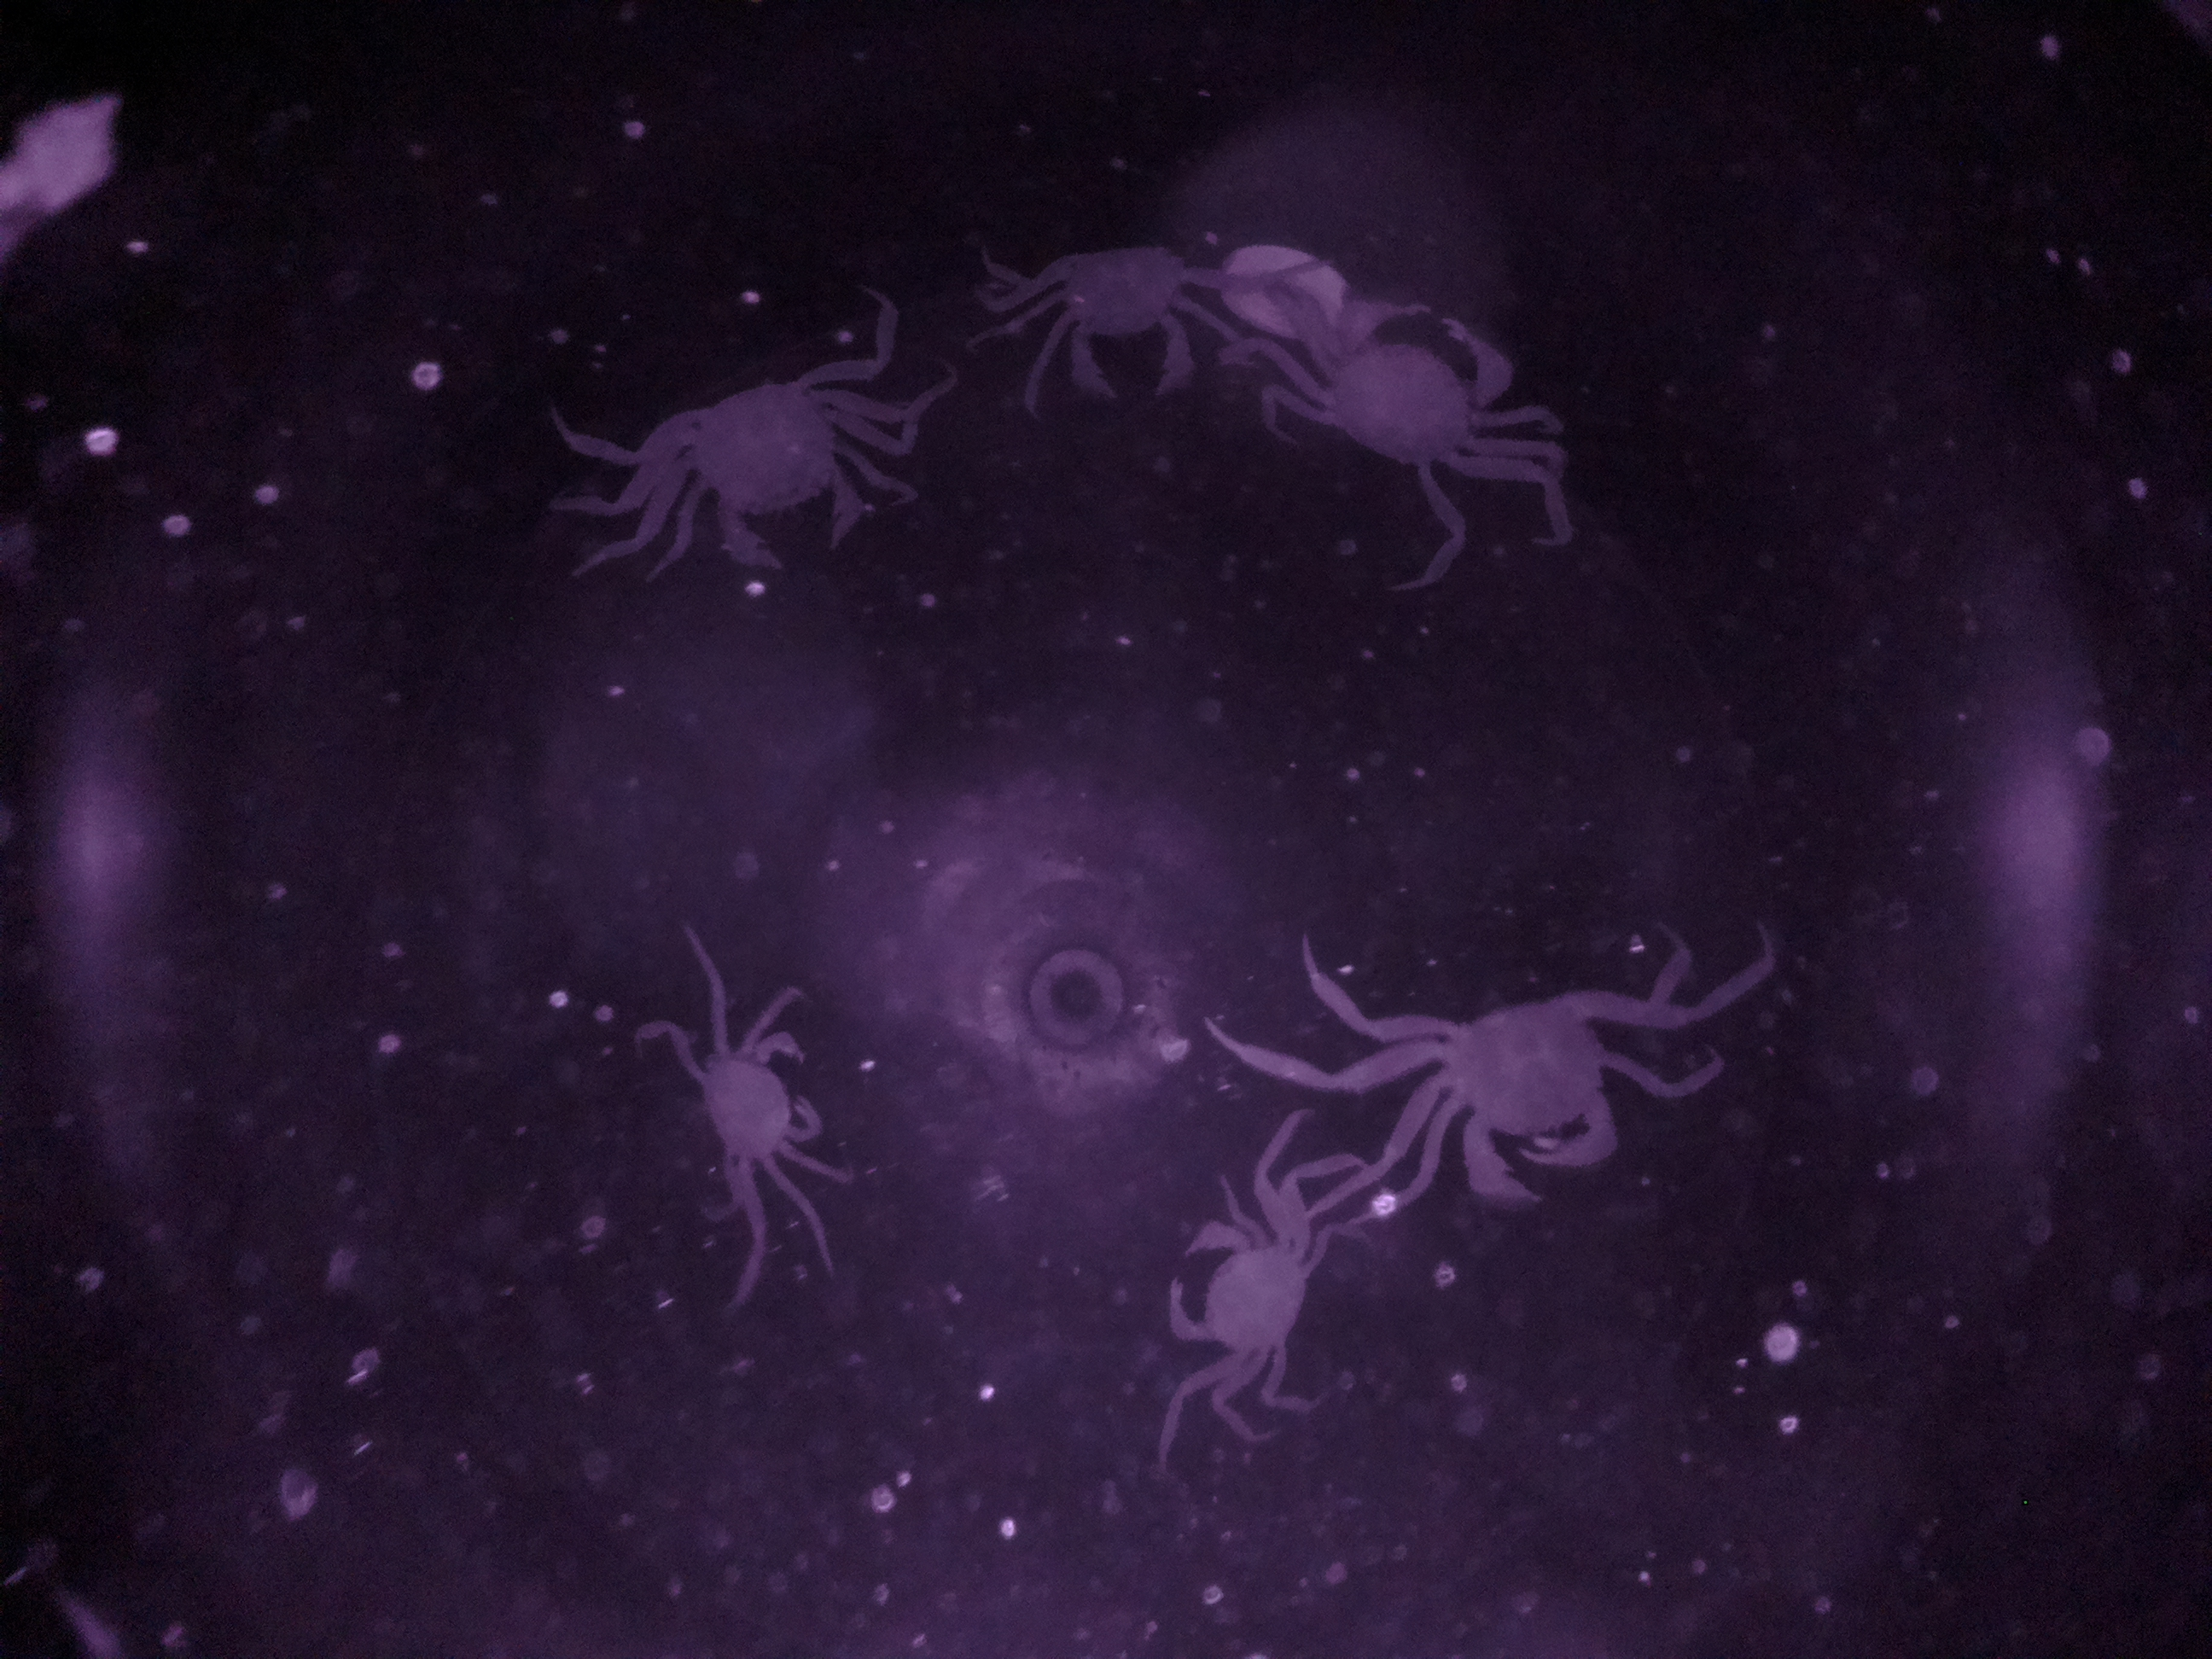Crab: (1362, 976, 1676, 1223), (648, 352, 900, 592), (1310, 270, 1531, 505), (1010, 214, 1226, 423), (669, 990, 845, 1201), (1153, 1197, 1327, 1398)
